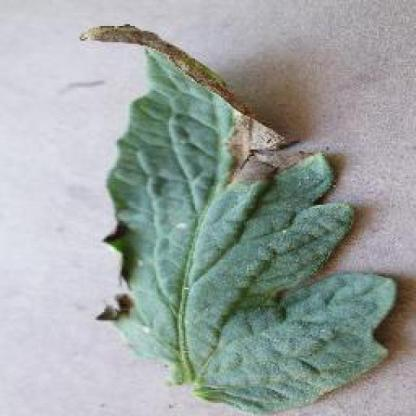Tomato_Blight: (79, 22, 394, 410)
